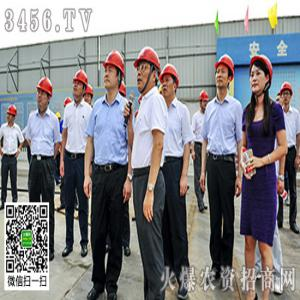red: (134, 41, 160, 96), (102, 46, 126, 93), (250, 54, 274, 94), (216, 55, 235, 93), (160, 65, 179, 101), (37, 75, 54, 113), (72, 69, 88, 100), (281, 82, 293, 107), (83, 83, 95, 104), (199, 89, 209, 112), (7, 105, 18, 125)
